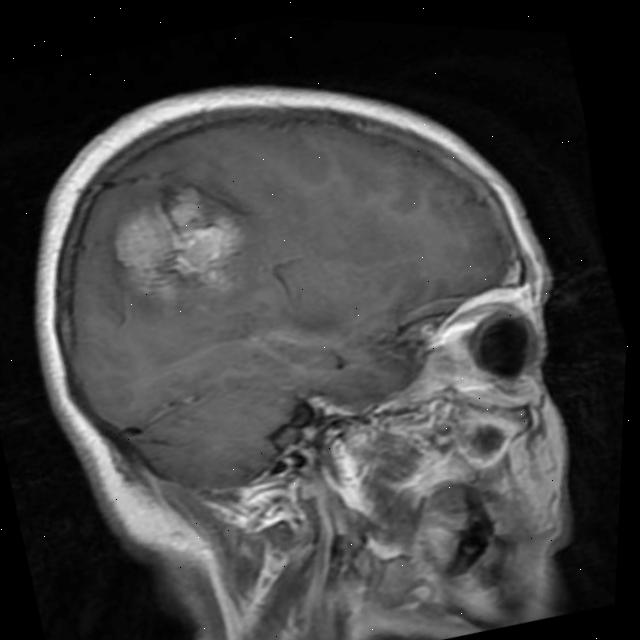Meningioma: (94, 163, 266, 320)
